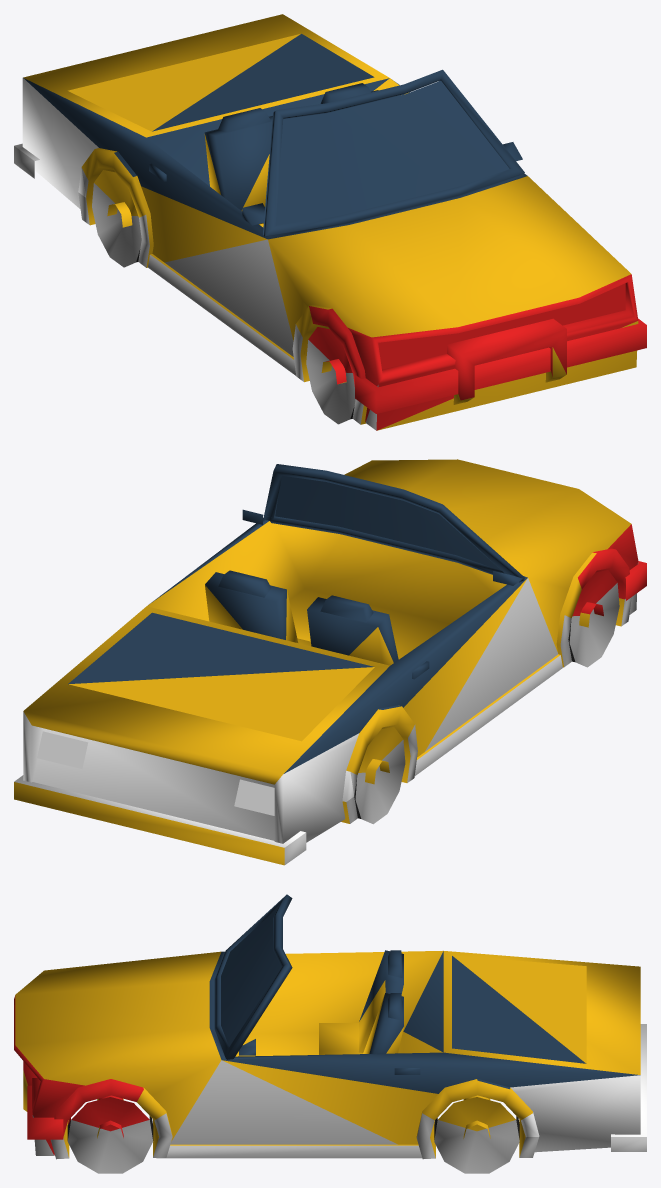
The model's file is bot_car2.obj.
The picture shows the model from 3 angles, top to bottom: view 1: azimuth 30°, elevation 25°; view 2: azimuth 150°, elevation 25°; view 3: azimuth 270°, elevation 25°; orthographic projection. The views are drawn at different scales.
Bounding box in the file's own units: 2.03 × 1.59 × 4.8.
